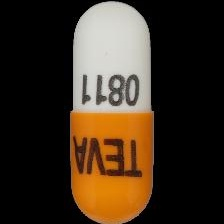49999-215: (0, 0, 224, 224)
